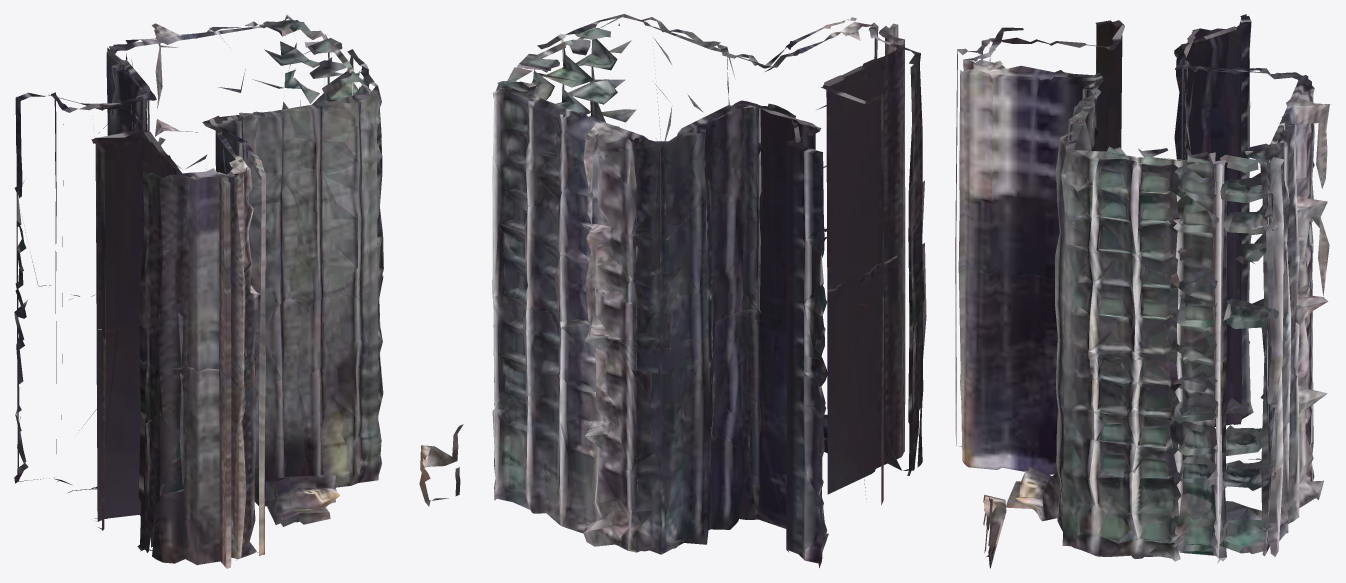
3 views of the same model, side by side, from view 1: azimuth 30°, elevation 25°; view 2: azimuth 150°, elevation 25°; view 3: azimuth 270°, elevation 25° (orthographic). The views are drawn at different scales.
Visible parts, largest first — view 1: Mesh_0; view 2: Mesh_0; view 3: Mesh_0.
Part boxes in pixels (box(x1,y1,x2,y2)): Mesh_0: box(14, 14, 463, 568); Mesh_0: box(492, 14, 926, 567); Mesh_0: box(955, 14, 1329, 568).
Size of the model in its own units: 32.37 by 37.52 by 31.68.
1 material, 1 textured.
